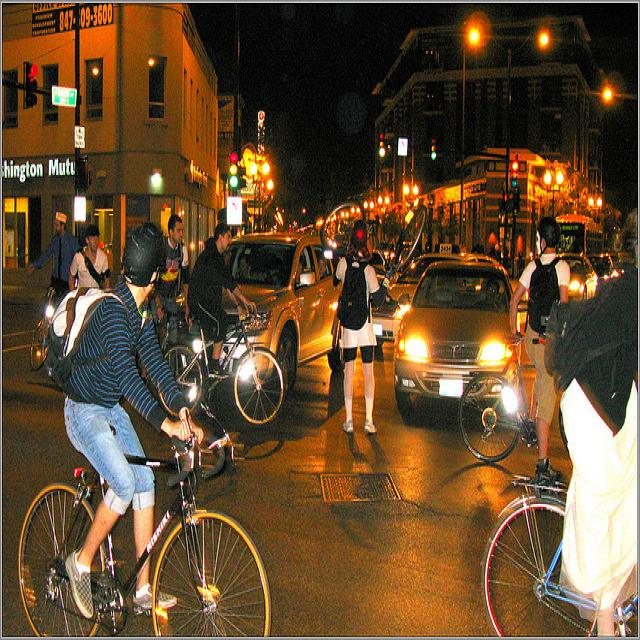Bicycle: (0, 435, 299, 640), (466, 480, 639, 640), (461, 369, 601, 492), (155, 328, 311, 418), (302, 189, 445, 269)
People: (523, 207, 575, 416), (334, 216, 384, 432), (207, 211, 239, 322), (42, 199, 83, 283), (75, 223, 111, 303), (170, 200, 196, 286)
car: (168, 211, 350, 403), (384, 234, 525, 443)
